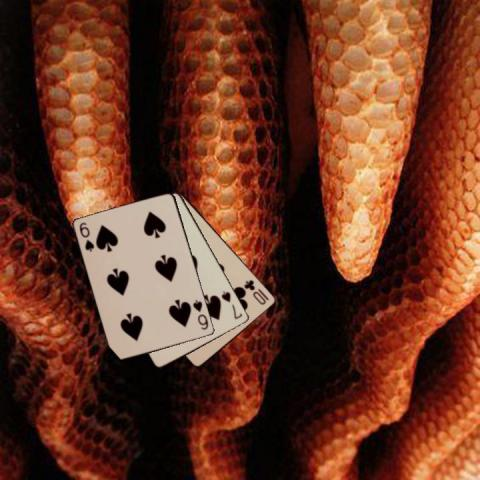10c: (241, 277, 271, 306)
6s: (190, 297, 210, 331), (77, 220, 96, 254)
7s: (219, 288, 244, 321)
